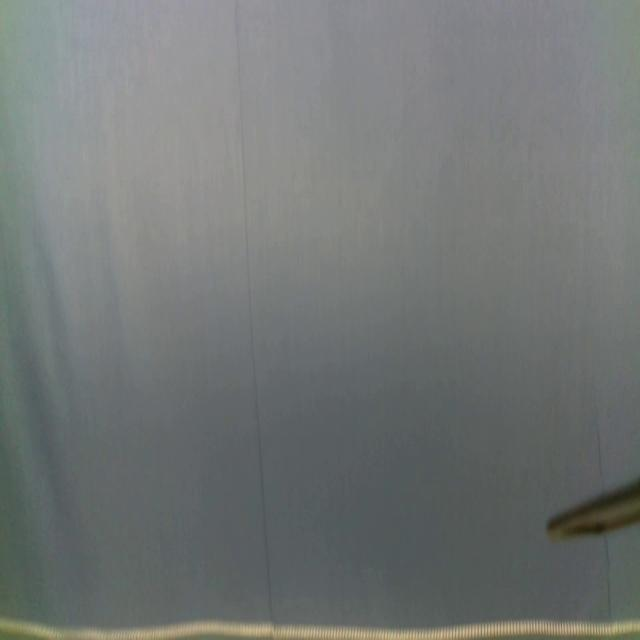crease: (235, 0, 272, 626), (602, 534, 613, 626), (595, 428, 606, 493)
